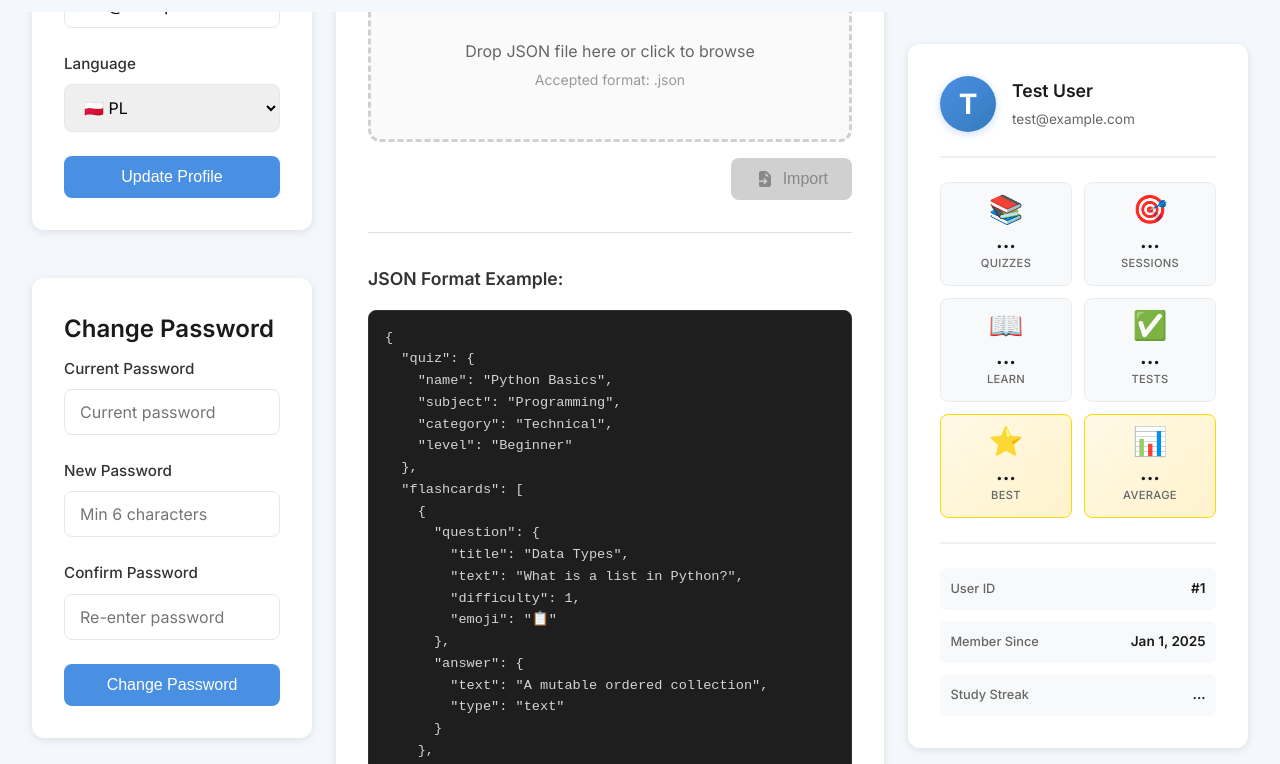
Test case: SettingsPage › validates password change form
This screenshot has width=1280, height=764.
(page scrolled)
Type "old123" into the password field labelled "Current Password".
click(172, 412); type("old123")  # box [64,389,280,435]
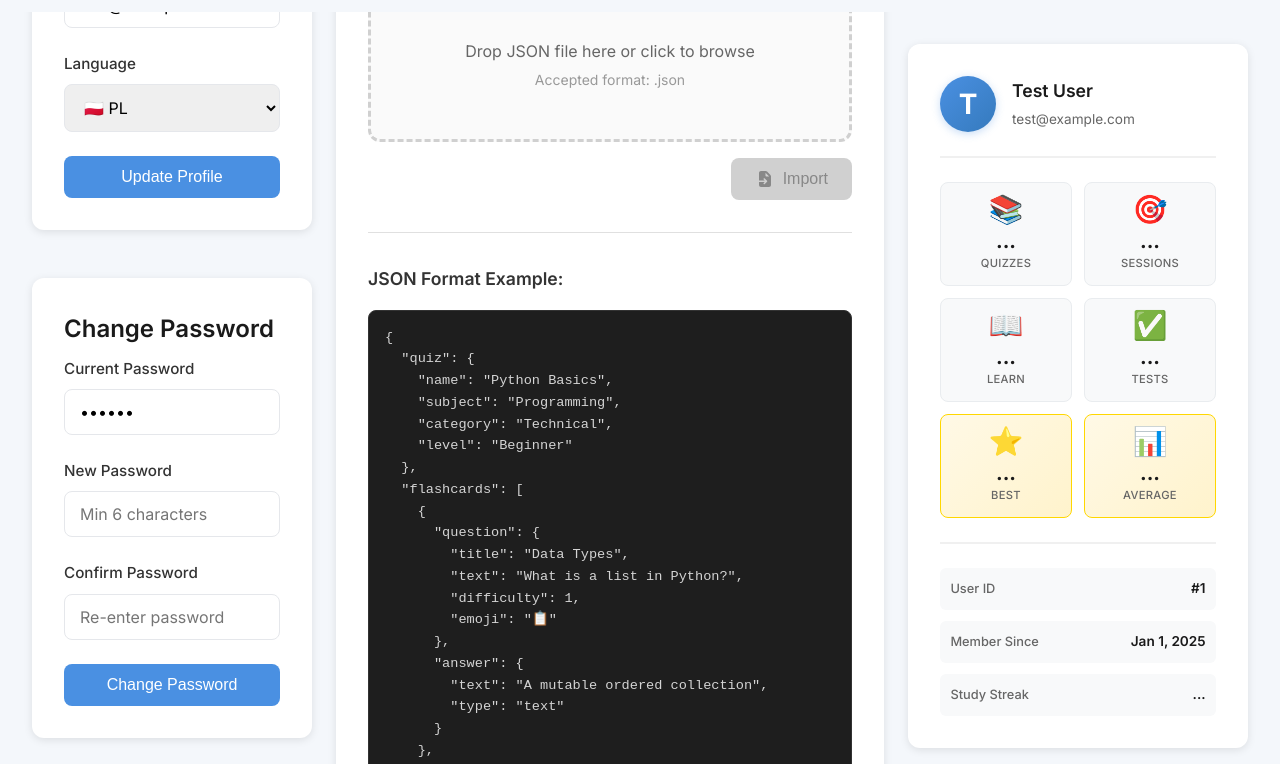
Type "12345" into the password field labelled "New Password".
click(172, 514); type("12345")  # box [64,491,280,537]
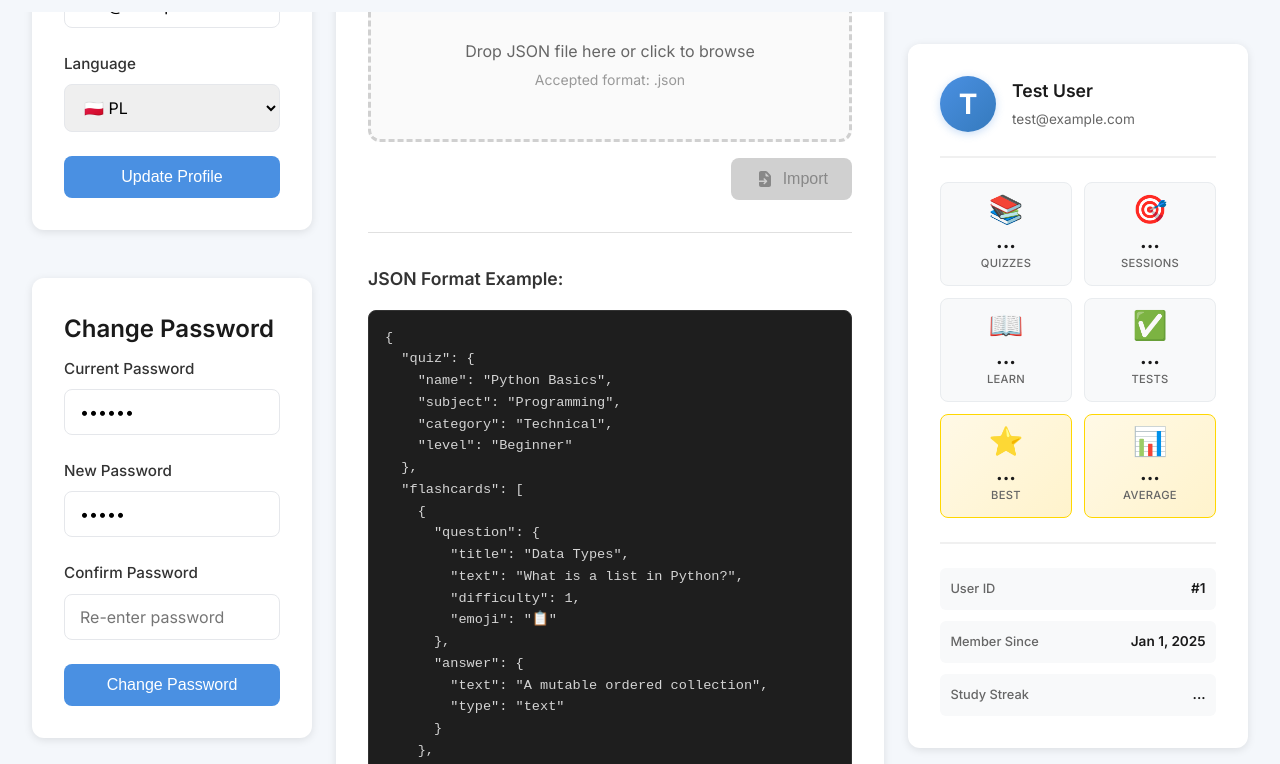
Type "12345" into the password field labelled "Confirm Password".
click(172, 617); type("12345")  # box [64,594,280,640]
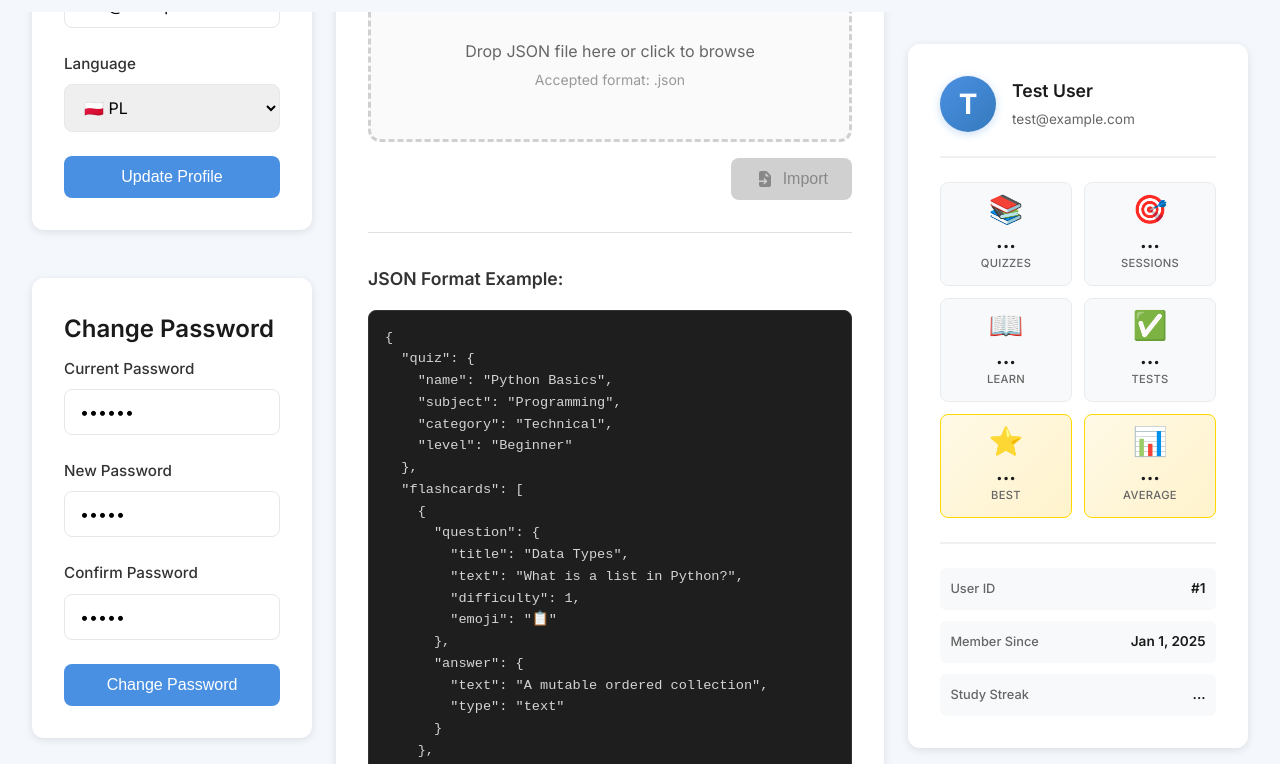
Click the button "Change Password".
click(172, 685)  # box [64,664,280,706]
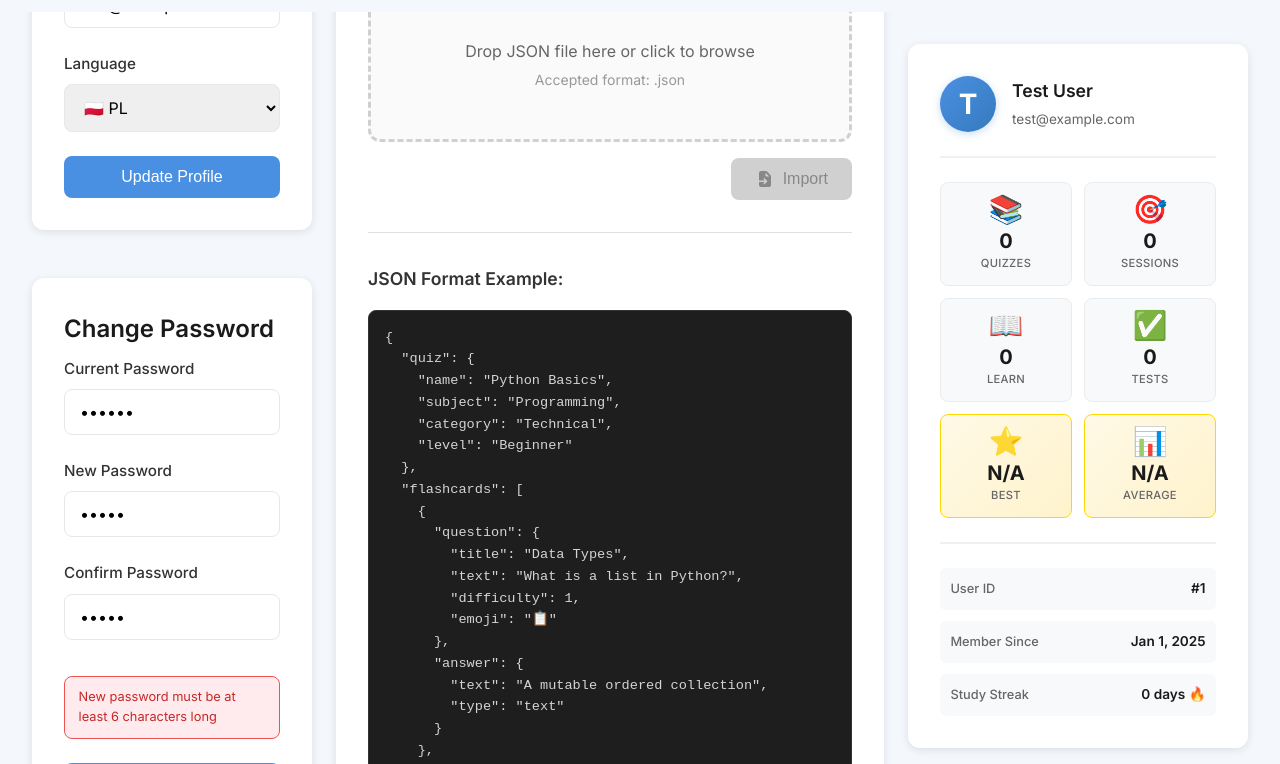
Now the text "New password must be at least 6 characters long" is shown, box [64,676,280,739]
